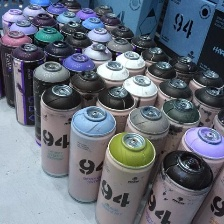aerosol_cans: (158, 114, 224, 224), (88, 127, 158, 224), (136, 147, 216, 223), (111, 100, 171, 199), (65, 103, 118, 205), (149, 94, 204, 185), (34, 80, 84, 180), (88, 82, 140, 174), (173, 79, 224, 165), (7, 40, 50, 131), (29, 56, 71, 149), (149, 75, 194, 160), (114, 71, 162, 149), (175, 67, 222, 140), (132, 44, 173, 125), (133, 57, 180, 126), (67, 66, 107, 146), (159, 52, 201, 127), (0, 27, 34, 113), (92, 57, 134, 126), (40, 36, 77, 113), (58, 49, 98, 119), (0, 5, 32, 86), (79, 25, 115, 94), (6, 17, 39, 92), (111, 49, 149, 112), (104, 21, 137, 90), (33, 23, 66, 91), (59, 30, 93, 96), (128, 30, 161, 98), (79, 42, 115, 103), (100, 34, 134, 98), (28, 9, 61, 70), (97, 8, 124, 77), (59, 17, 87, 83), (77, 14, 106, 77), (19, 0, 52, 54), (43, 0, 71, 53), (57, 7, 80, 59), (75, 4, 100, 51)
